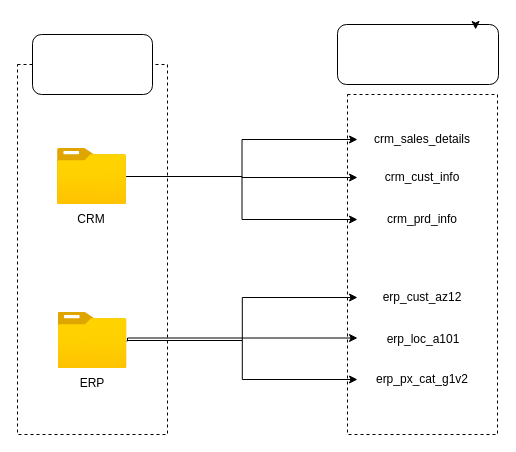
This 516x452 diagram has some shape labels left out. The centre of each missing label's shape, as x and y in pixels:
"Bronze Layer" belongs at [417,54].
"Sourcee" belongs at [92,64].
